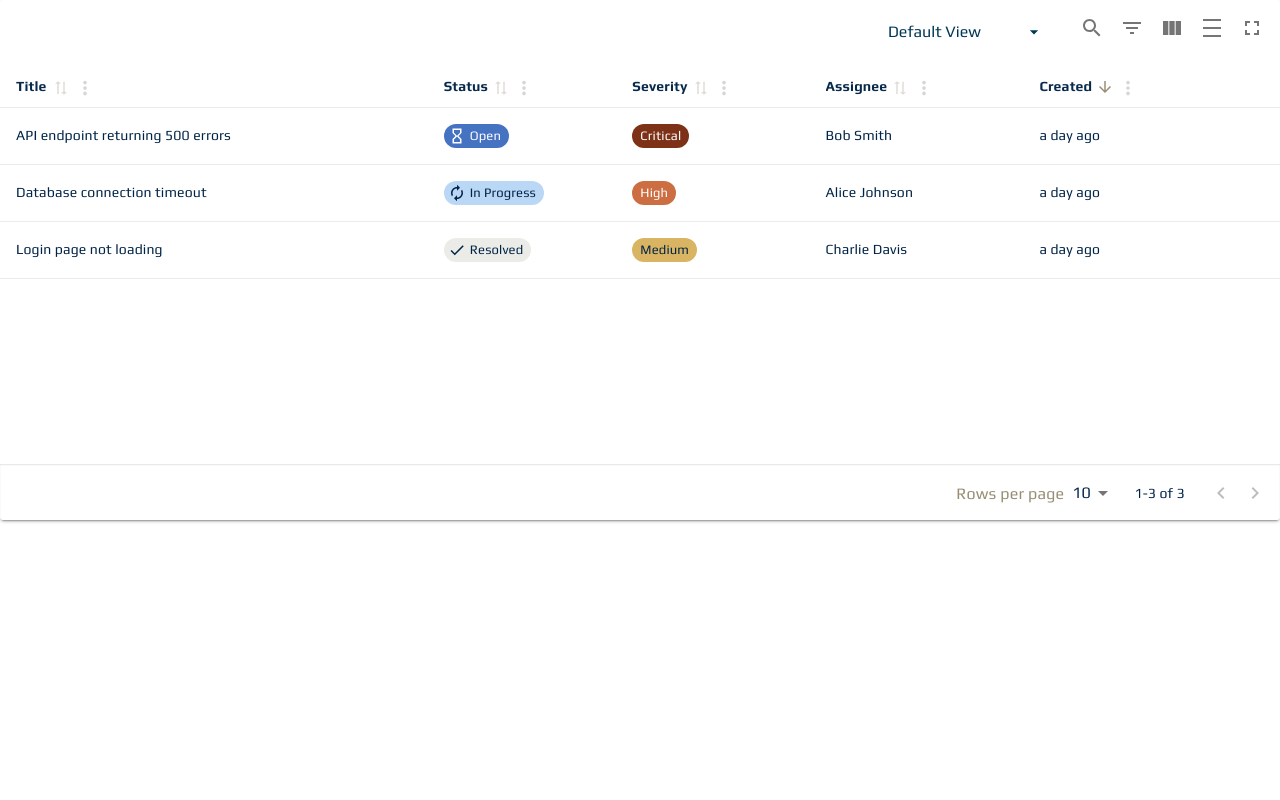
Saved Views Integration Tests › Create-and-Apply Workflow (T032, T039) › creates a saved view and can select it from dropdown
The image size is (1280, 800).
Expected: the text "Database connection timeout" is shown, [0,165,428,222]
Open dropdown and create new view
Step 1. Click the button "Default View" → (964, 32), box [864,8,1064,56]
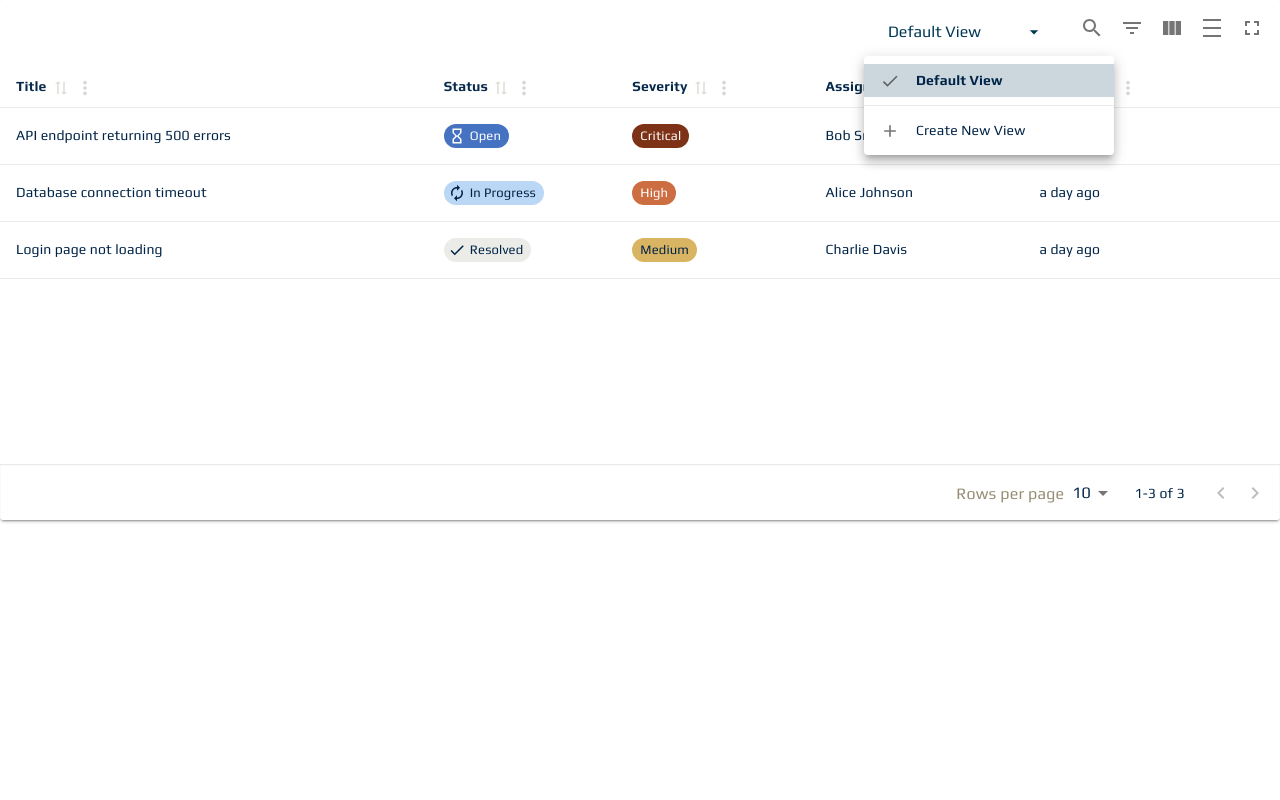
Step 2. Click the menu item "Create New View" → (953, 130), box [880,120,1026,140]
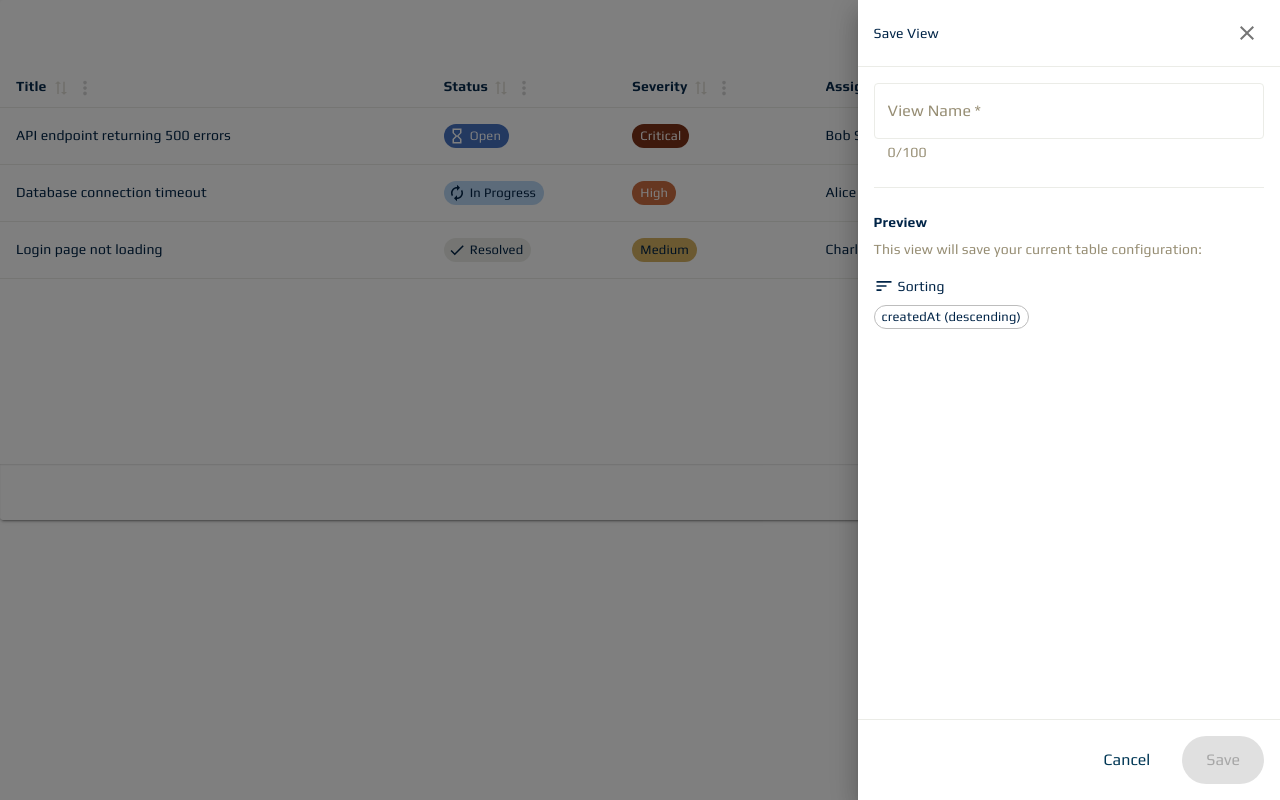
Expected: the heading "Save View" is shown, [874,25,939,41]
Step 3. Type "Test View" into the field labelled "View Name *" → (1069, 111), box [874,83,1264,139]
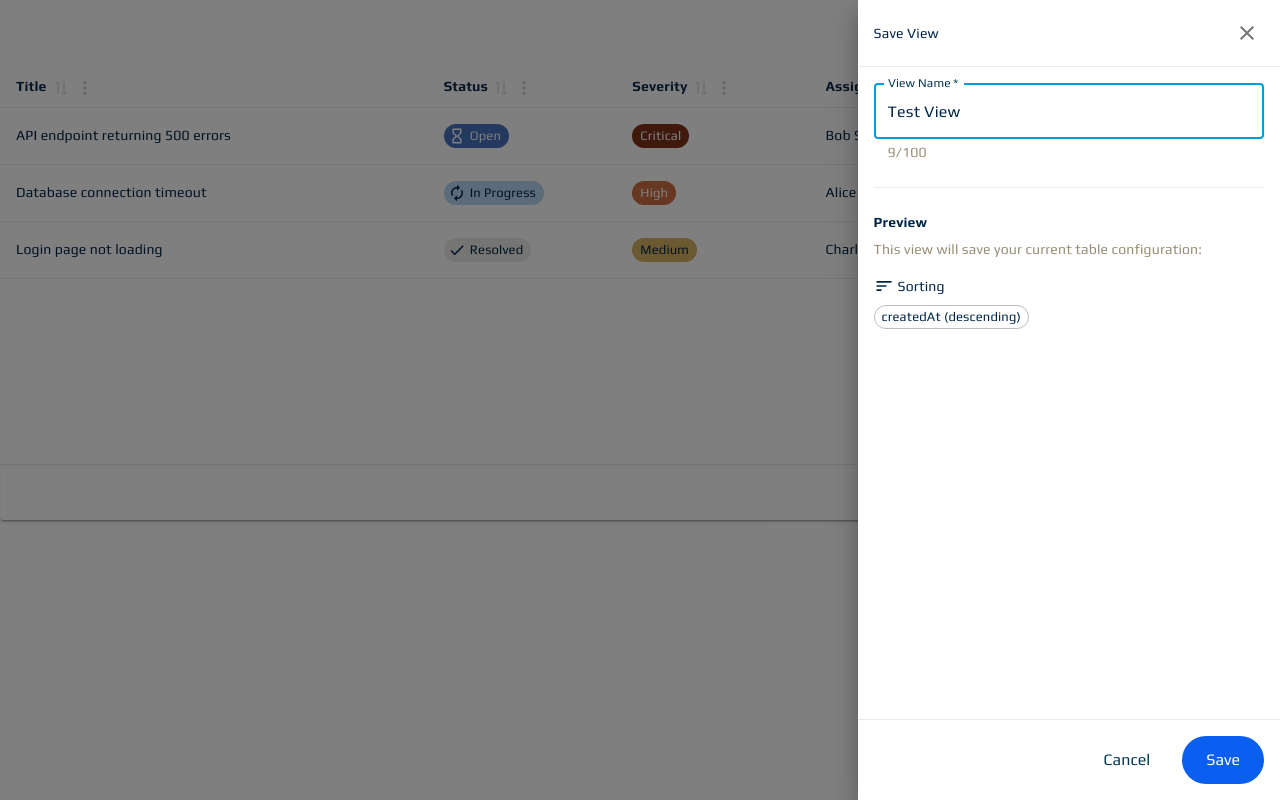
Save the view
Step 4. Click the button "Save" → (1223, 760), box [1182,736,1264,784]
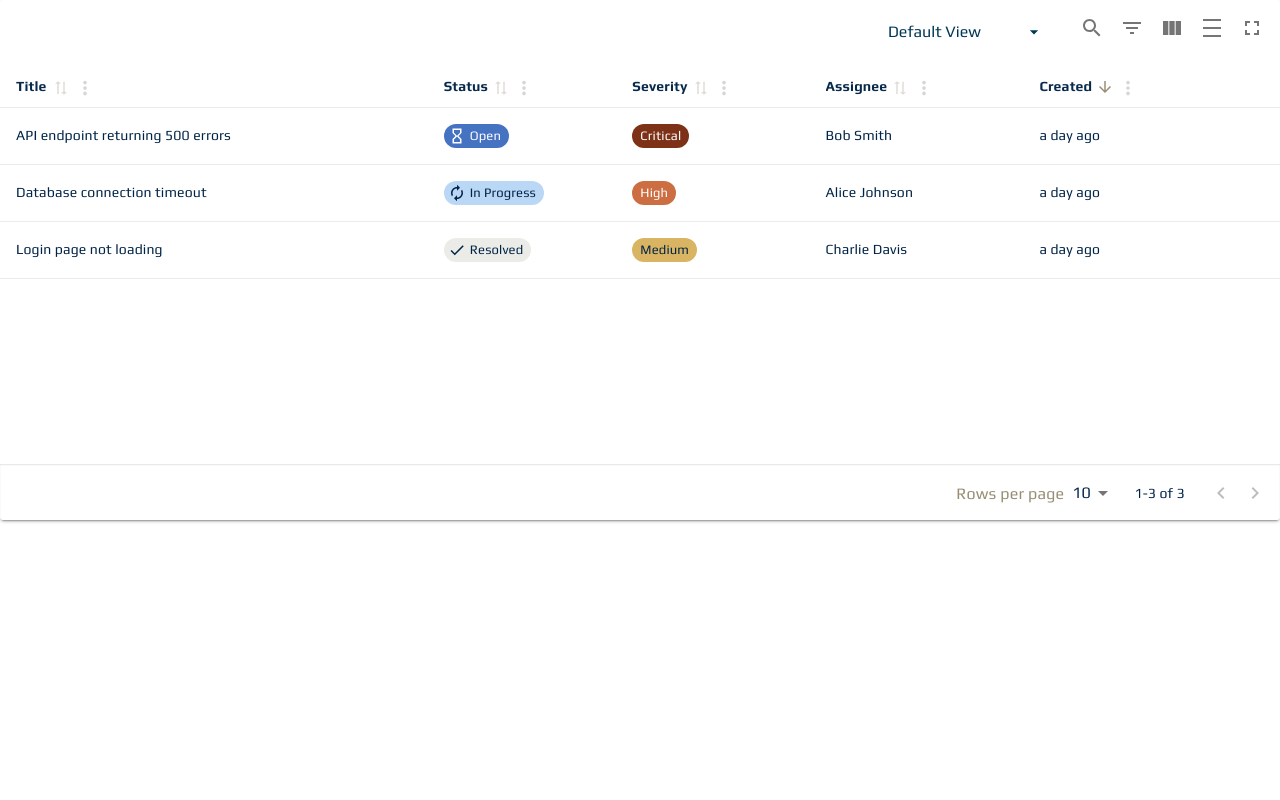
Expected: the heading "Save View" is gone
Open dropdown again - saved view should appear
Step 5. Click the button "Default View" → (964, 32), box [864,8,1064,56]
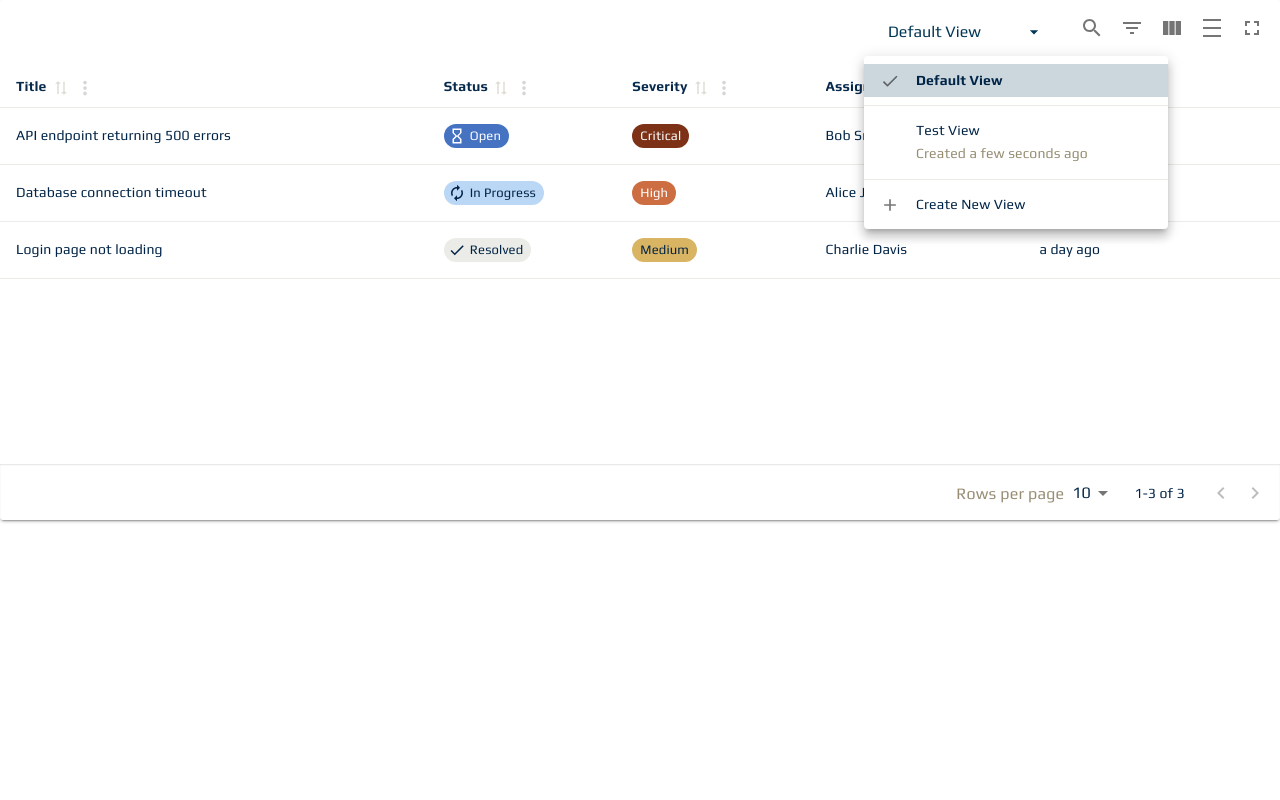
Expected: the text "Test View" is shown, [916,122,980,138]
